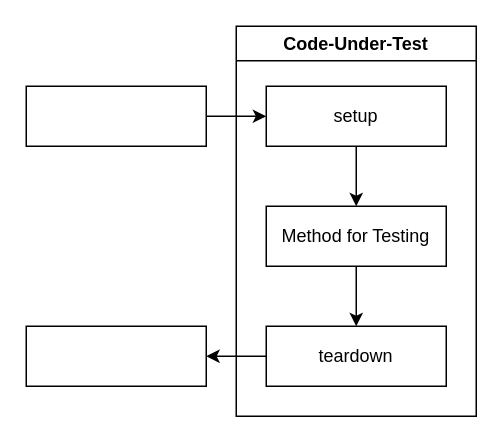
Some shapes in this 503 by 443 pixel diagram are drawn without their labels. The centre of each missing label's shape, as x and y in pixels:
class_setup: (115,115)
class_teardown: (115,355)
